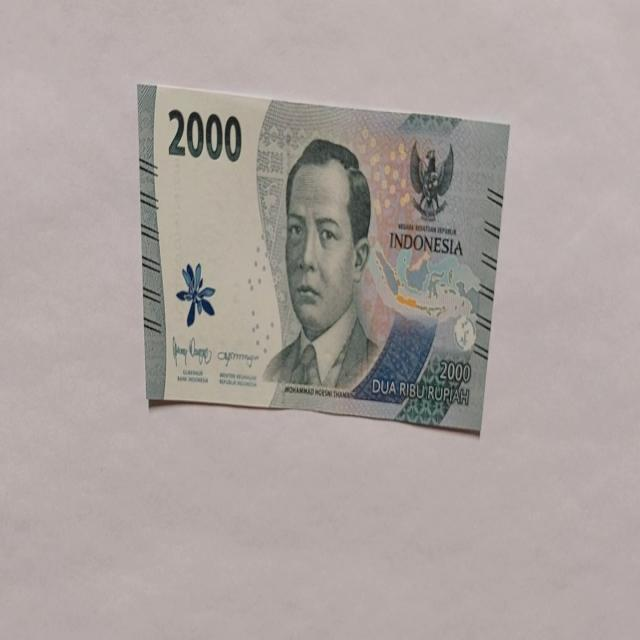dua ribu rupiah: (136, 82, 510, 434), (262, 137, 381, 391)
